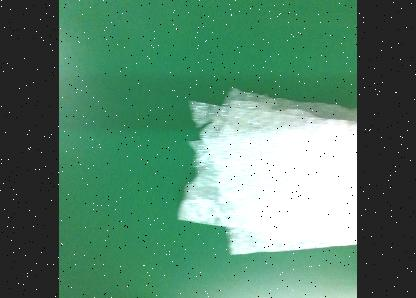Others: (176, 86, 357, 254)
